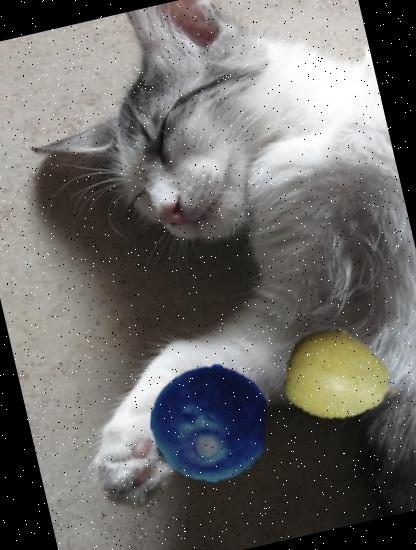Huckleberry: (138, 352, 280, 494)
Pear: (274, 307, 412, 445)
